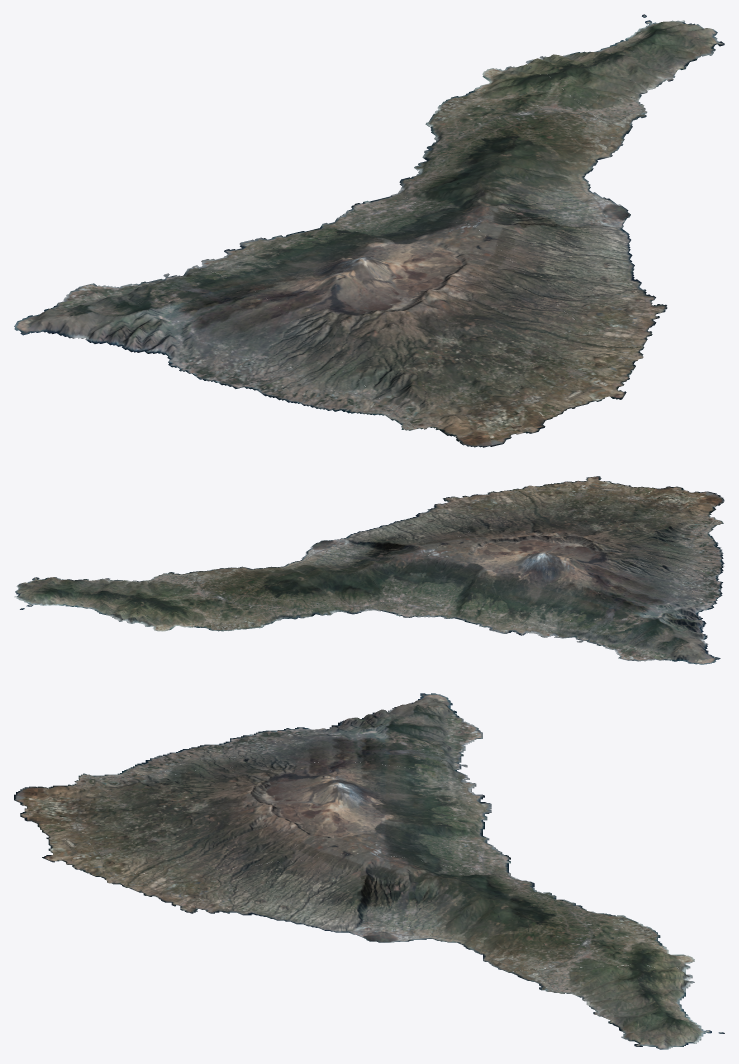
File: tenerife-full-island-runtime-low.glb
3 views of the same model, one above another, from view 1: azimuth 30°, elevation 25°; view 2: azimuth 150°, elevation 25°; view 3: azimuth 270°, elevation 25° (orthographic). The views are drawn at different scales.
Parts seen in each view (by area): view 1: tenerife-full-island-terrain-tile-02, tenerife-full-island-terrain-tile-03, tenerife-full-island-terrain-tile-01, tenerife-full-island-terrain-tile-04; view 2: tenerife-full-island-terrain-tile-02, tenerife-full-island-terrain-tile-03, tenerife-full-island-terrain-tile-01, tenerife-full-island-terrain-tile-04; view 3: tenerife-full-island-terrain-tile-02, tenerife-full-island-terrain-tile-03, tenerife-full-island-terrain-tile-01, tenerife-full-island-terrain-tile-04.
Boxes of the visible parts, x1,y1,x2,y2 form: tenerife-full-island-terrain-tile-02: (199,193,633,447); tenerife-full-island-terrain-tile-03: (398,64,667,368); tenerife-full-island-terrain-tile-01: (14,265,417,430); tenerife-full-island-terrain-tile-04: (526,14,724,140); tenerife-full-island-terrain-tile-02: (375,476,724,637); tenerife-full-island-terrain-tile-03: (140,484,548,631); tenerife-full-island-terrain-tile-01: (554,519,724,664); tenerife-full-island-terrain-tile-04: (14,569,213,623); tenerife-full-island-terrain-tile-02: (14,761,510,875); tenerife-full-island-terrain-tile-03: (92,852,694,971); tenerife-full-island-terrain-tile-01: (78,693,482,779); tenerife-full-island-terrain-tile-04: (507,963,724,1049).
Bounding box in the file's own units: 79449 × 3679 × 67022.
1 material, 1 textured.
